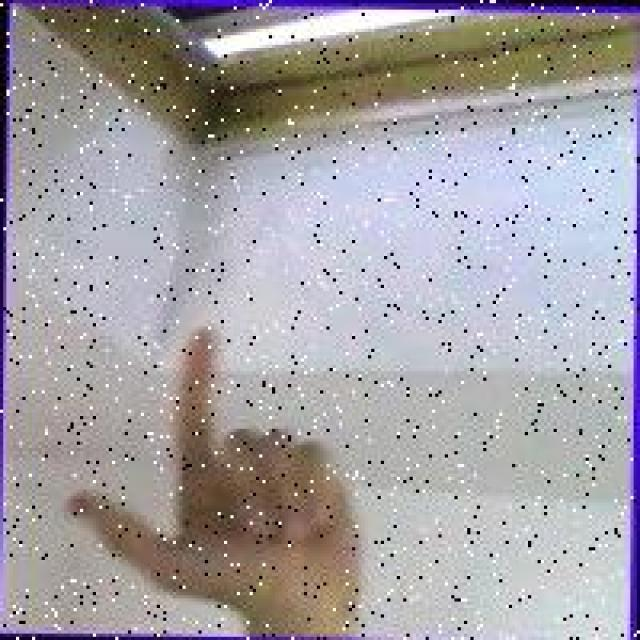L: (58, 315, 368, 626)
